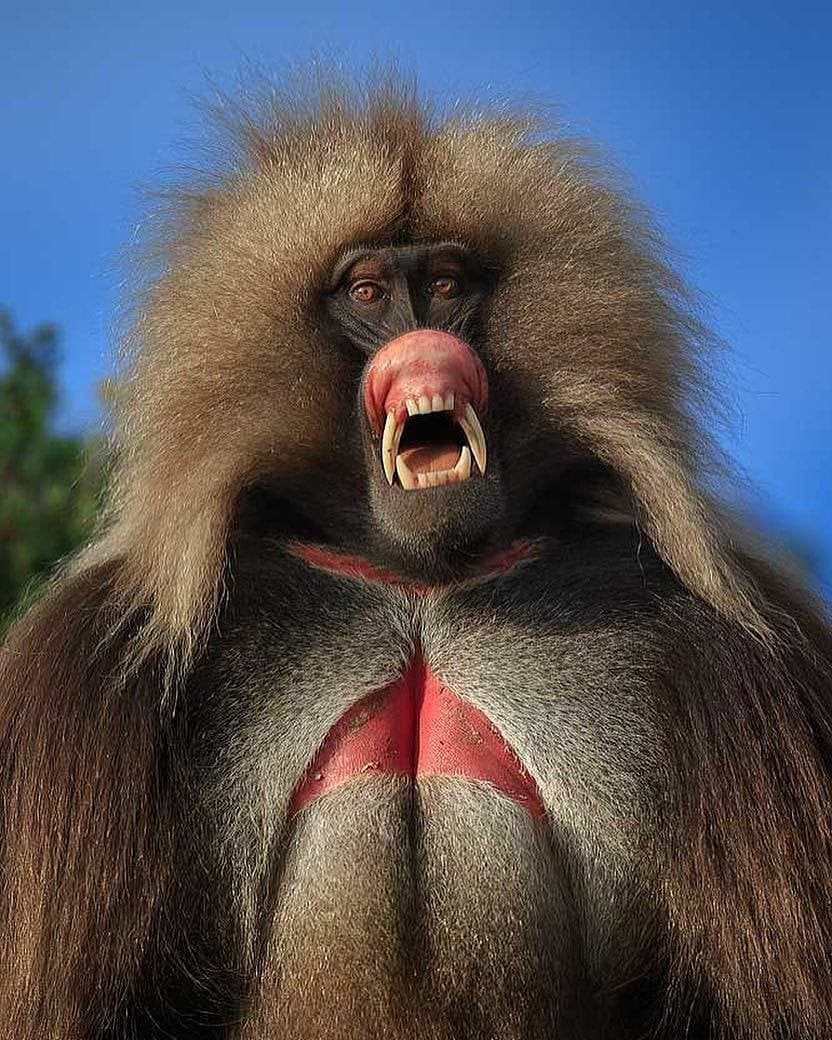Gelada: (116, 127, 791, 978)
